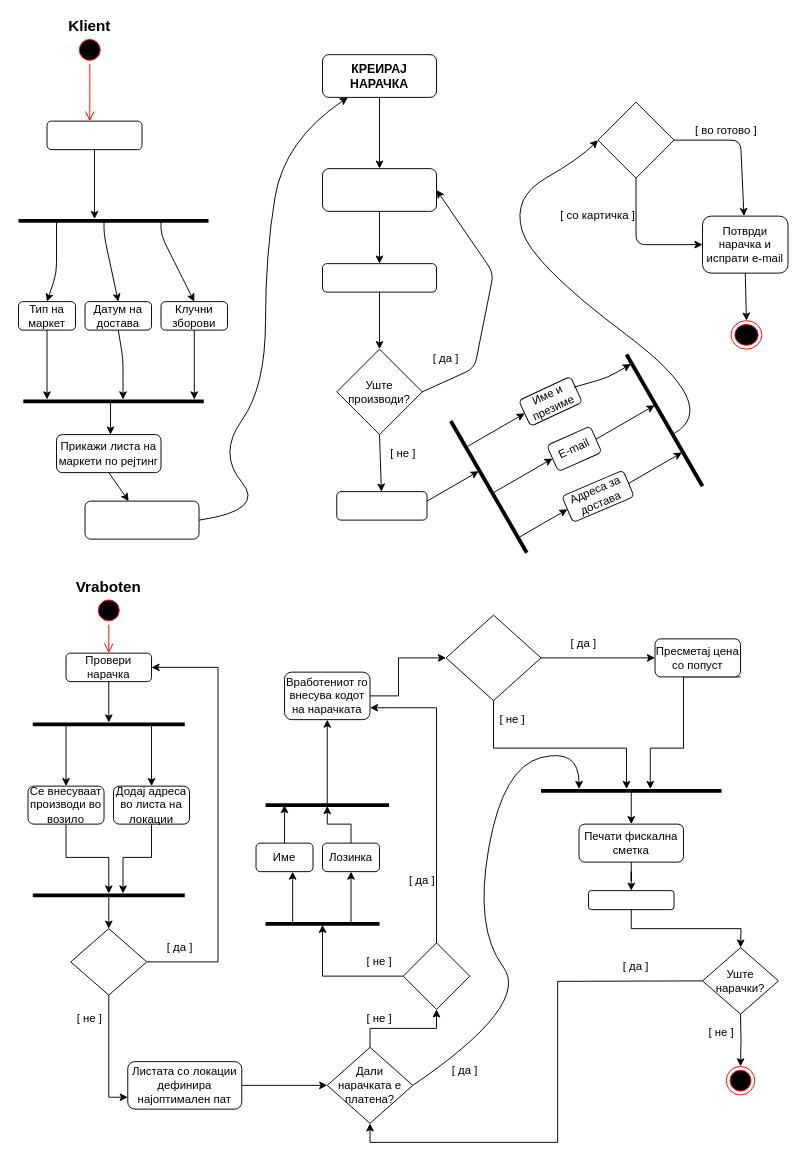
Some shapes in this 805 by 1167 pixel diagram are drawn without their labels. Here are the shapes that lost their labels. From the top down, the centre of each, then its label:
(x=94, y=135): Одбери град
(x=635, y=139): Тип на плаќање
(x=379, y=189): Одбери и додади производ во кошничка
(x=379, y=277): Внеси количина на производот
(x=141, y=519): Одбери маркет и прикажи детали за него
(x=381, y=505): КУПИ
(x=493, y=657): Дали клиентот има картичка за попуст?
(x=631, y=900): Достава
(x=108, y=961): Има уште нарачки?
(x=436, y=975): Дали вработениот е најавен?
